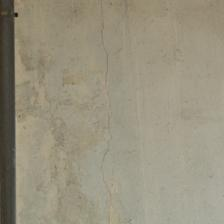Crack: (48, 4, 73, 217)
